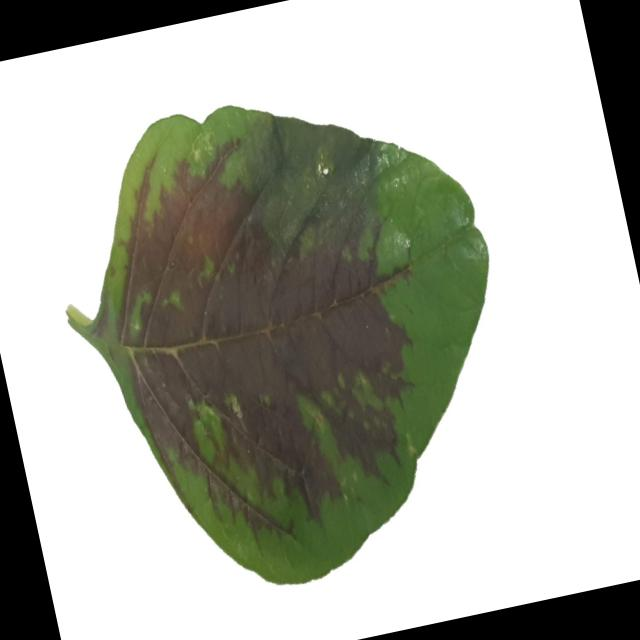Medicinal-Arive Dantu: (27, 51, 550, 618)
